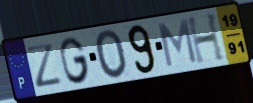9: (126, 24, 158, 76)
G: (58, 36, 92, 86)
H: (185, 11, 228, 66)
M: (156, 17, 199, 69)
O: (94, 27, 130, 81)
Z: (24, 41, 64, 90)
